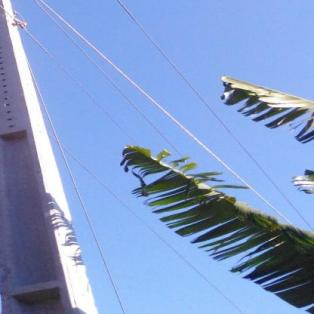Poste: (0, 0, 112, 314)
